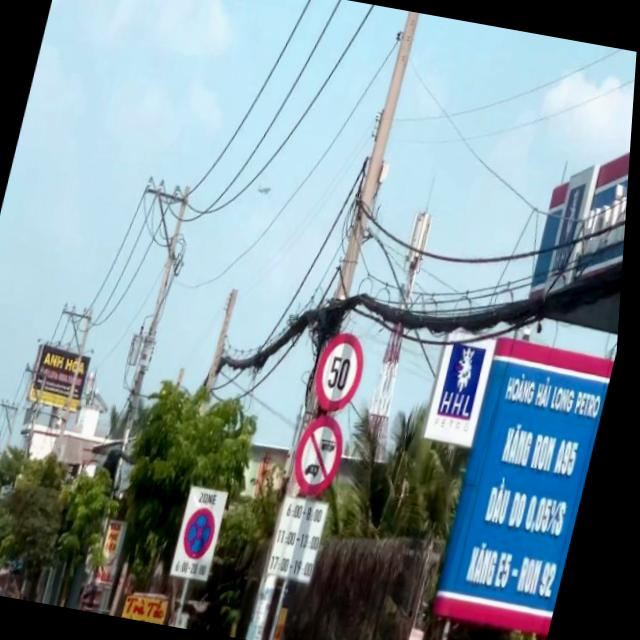Cam dung xe va do xe: (184, 502, 228, 564)
Toc do toi da cho phep: (314, 329, 378, 414)
